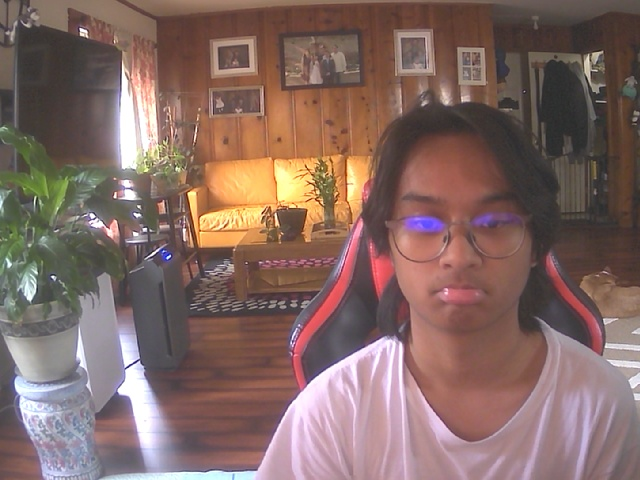sad: (381, 113, 544, 337)
